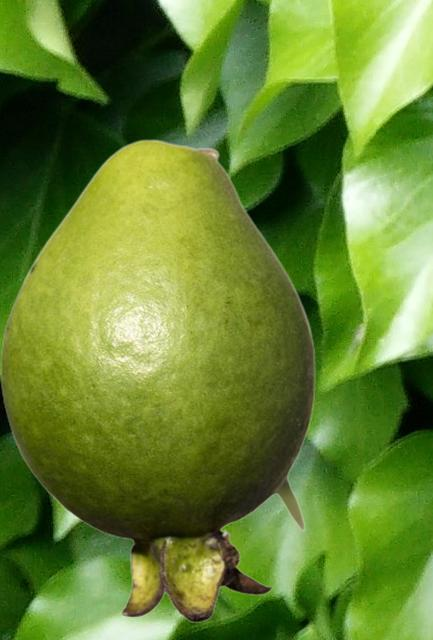guava: (0, 138, 314, 622)
